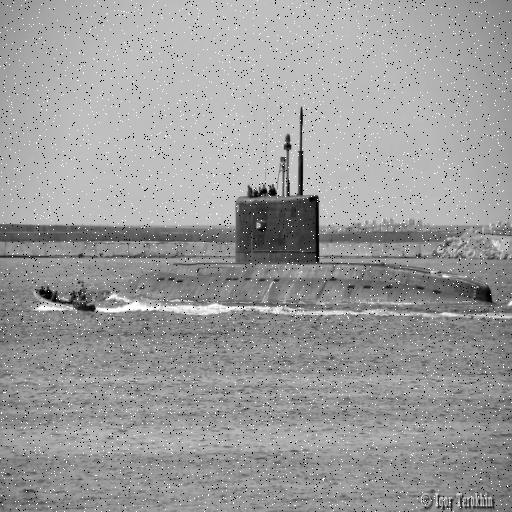submarine: (113, 176, 502, 308)
